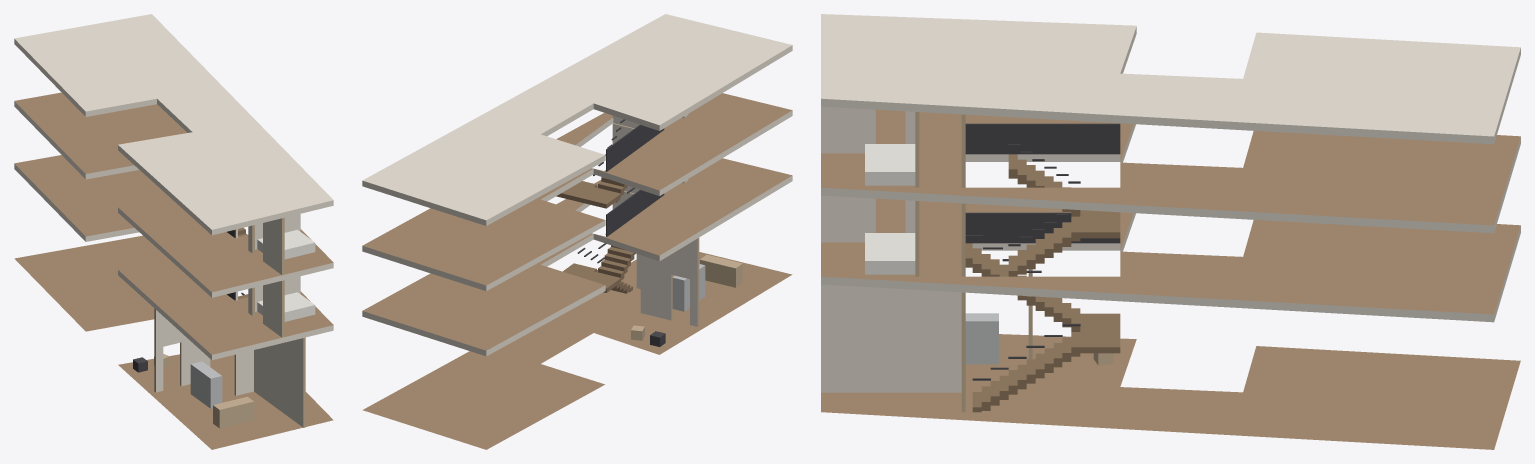
Rendered from interior.glb.
3 views of the same model, side by side, from view 1: azimuth 30°, elevation 25°; view 2: azimuth 150°, elevation 25°; view 3: azimuth 270°, elevation 25° (orthographic). The views are drawn at different scales.
Visible parts, largest first — view 1: slabs, partitions, coarse-s0, coarse-s1, coarse-s2; view 2: slabs, stair, partitions, coarse-s0; view 3: slabs, partitions, stair, coarse-s1, coarse-s2, coarse-s0.
Boxes of the visible parts, bbox=[...] form: slabs: bbox=[14, 14, 333, 449]; partitions: bbox=[154, 214, 305, 427]; coarse-s0: bbox=[133, 354, 254, 428]; coarse-s1: bbox=[257, 292, 315, 321]; coarse-s2: bbox=[257, 229, 315, 259]; slabs: bbox=[362, 14, 792, 449]; stair: bbox=[556, 119, 664, 293]; partitions: bbox=[612, 114, 699, 326]; coarse-s0: bbox=[631, 254, 742, 346]; slabs: bbox=[821, 14, 1520, 449]; partitions: bbox=[821, 106, 1032, 412]; stair: bbox=[965, 123, 1120, 412]; coarse-s1: bbox=[865, 233, 915, 274]; coarse-s2: bbox=[865, 144, 915, 185]; coarse-s0: bbox=[965, 313, 1113, 365].
Size of the model in its own units: 8.73 by 10.43 by 21.06.
